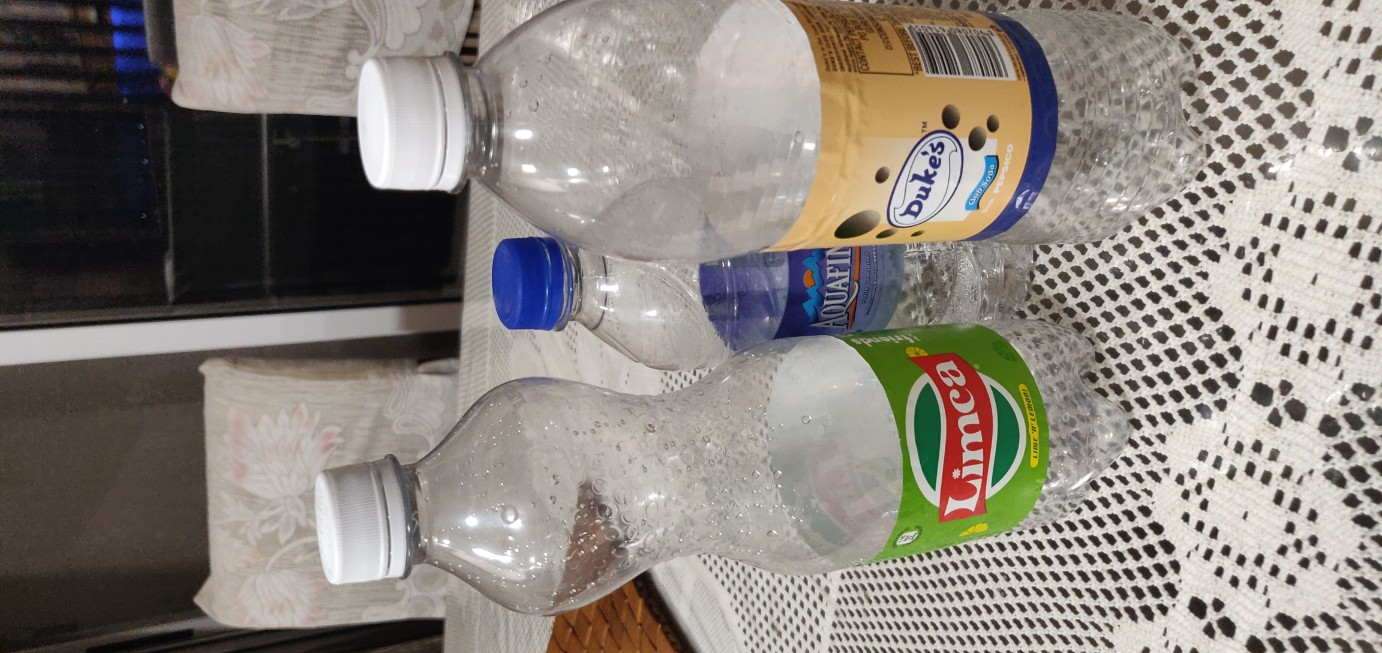Electronics: (291, 304, 1170, 633), (330, 5, 1237, 276), (454, 156, 1098, 401)
